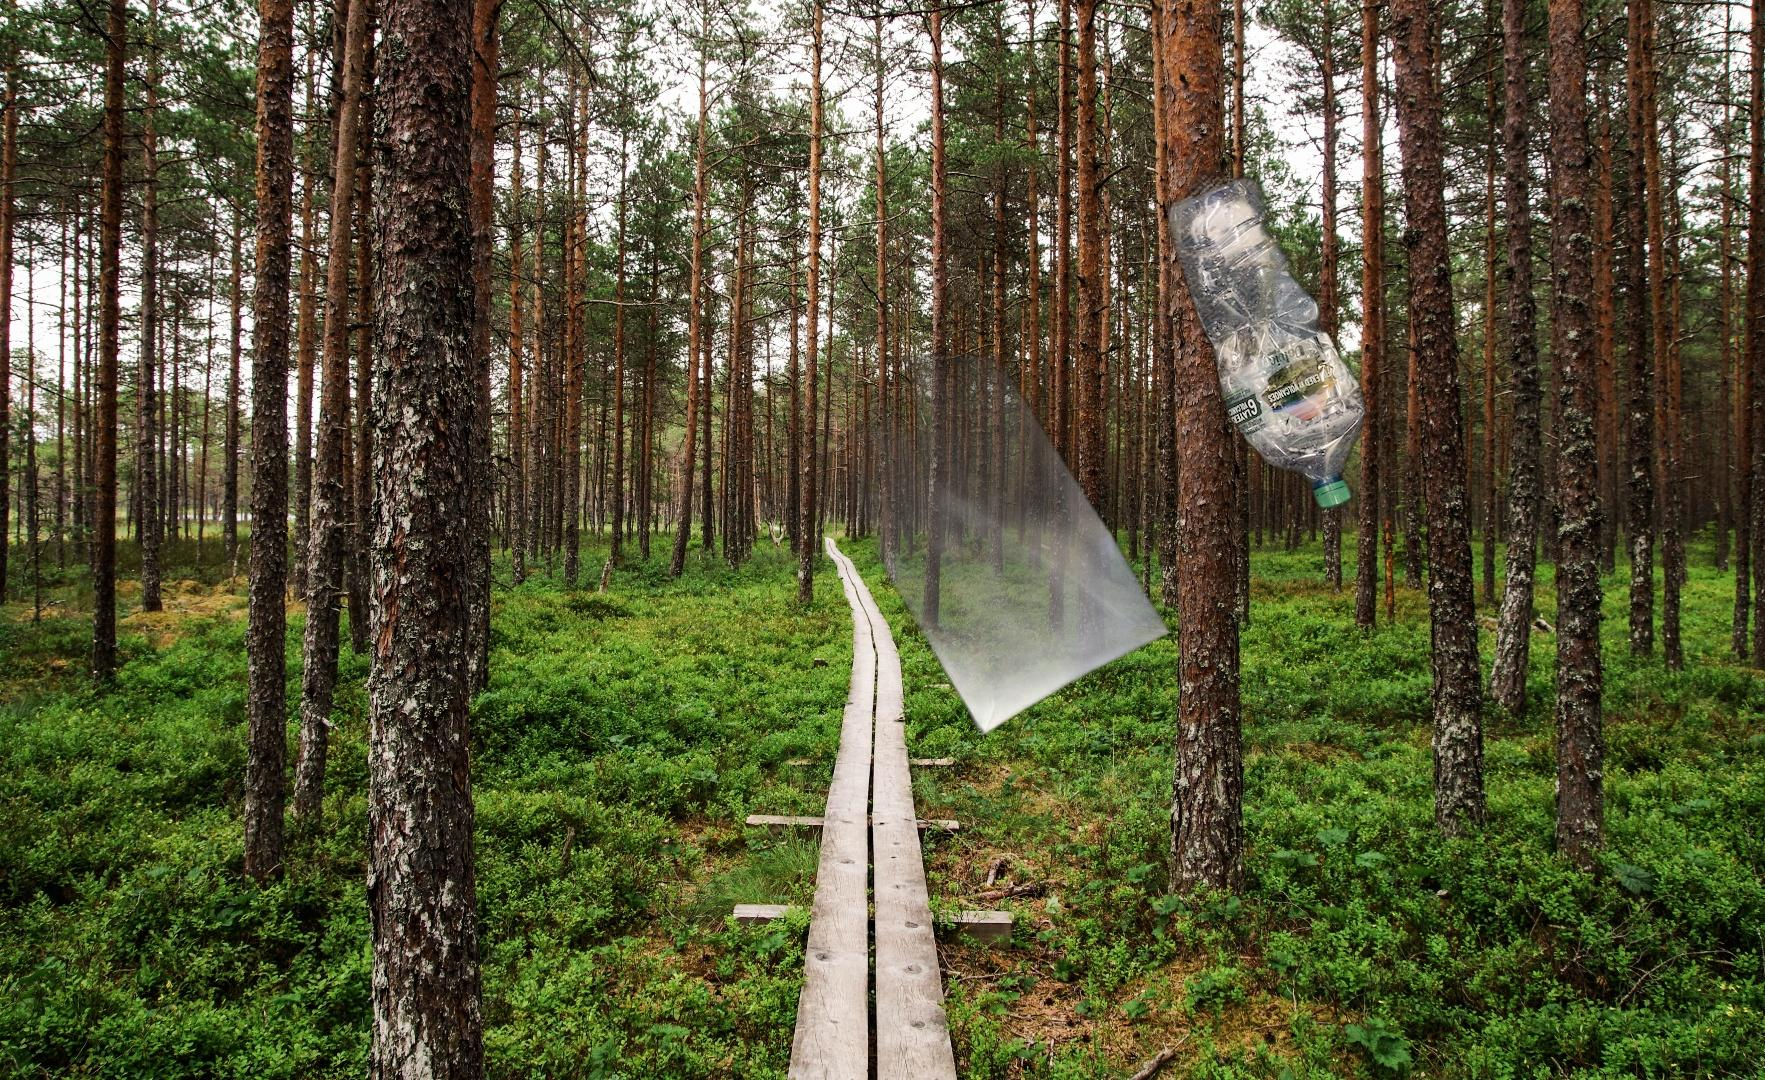paper: (758, 354, 1176, 738)
plastic-bottles: (1160, 149, 1375, 515)
